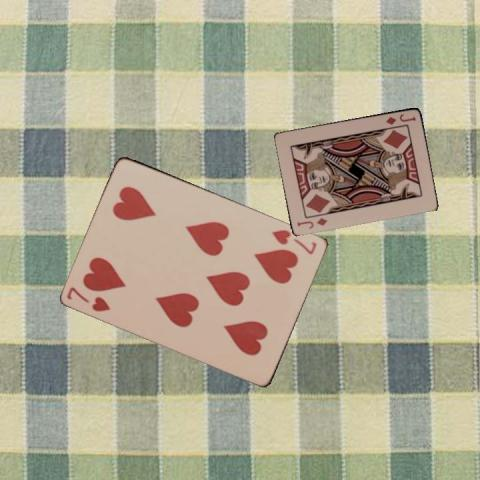7h: (269, 226, 319, 256), (64, 284, 112, 314)
Jd: (294, 215, 329, 230), (383, 111, 417, 126)
